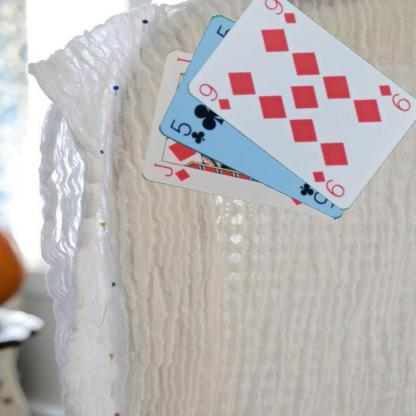5c: (167, 116, 206, 146)
9d: (195, 80, 232, 112), (375, 82, 412, 113)
Jd: (151, 160, 191, 182)
